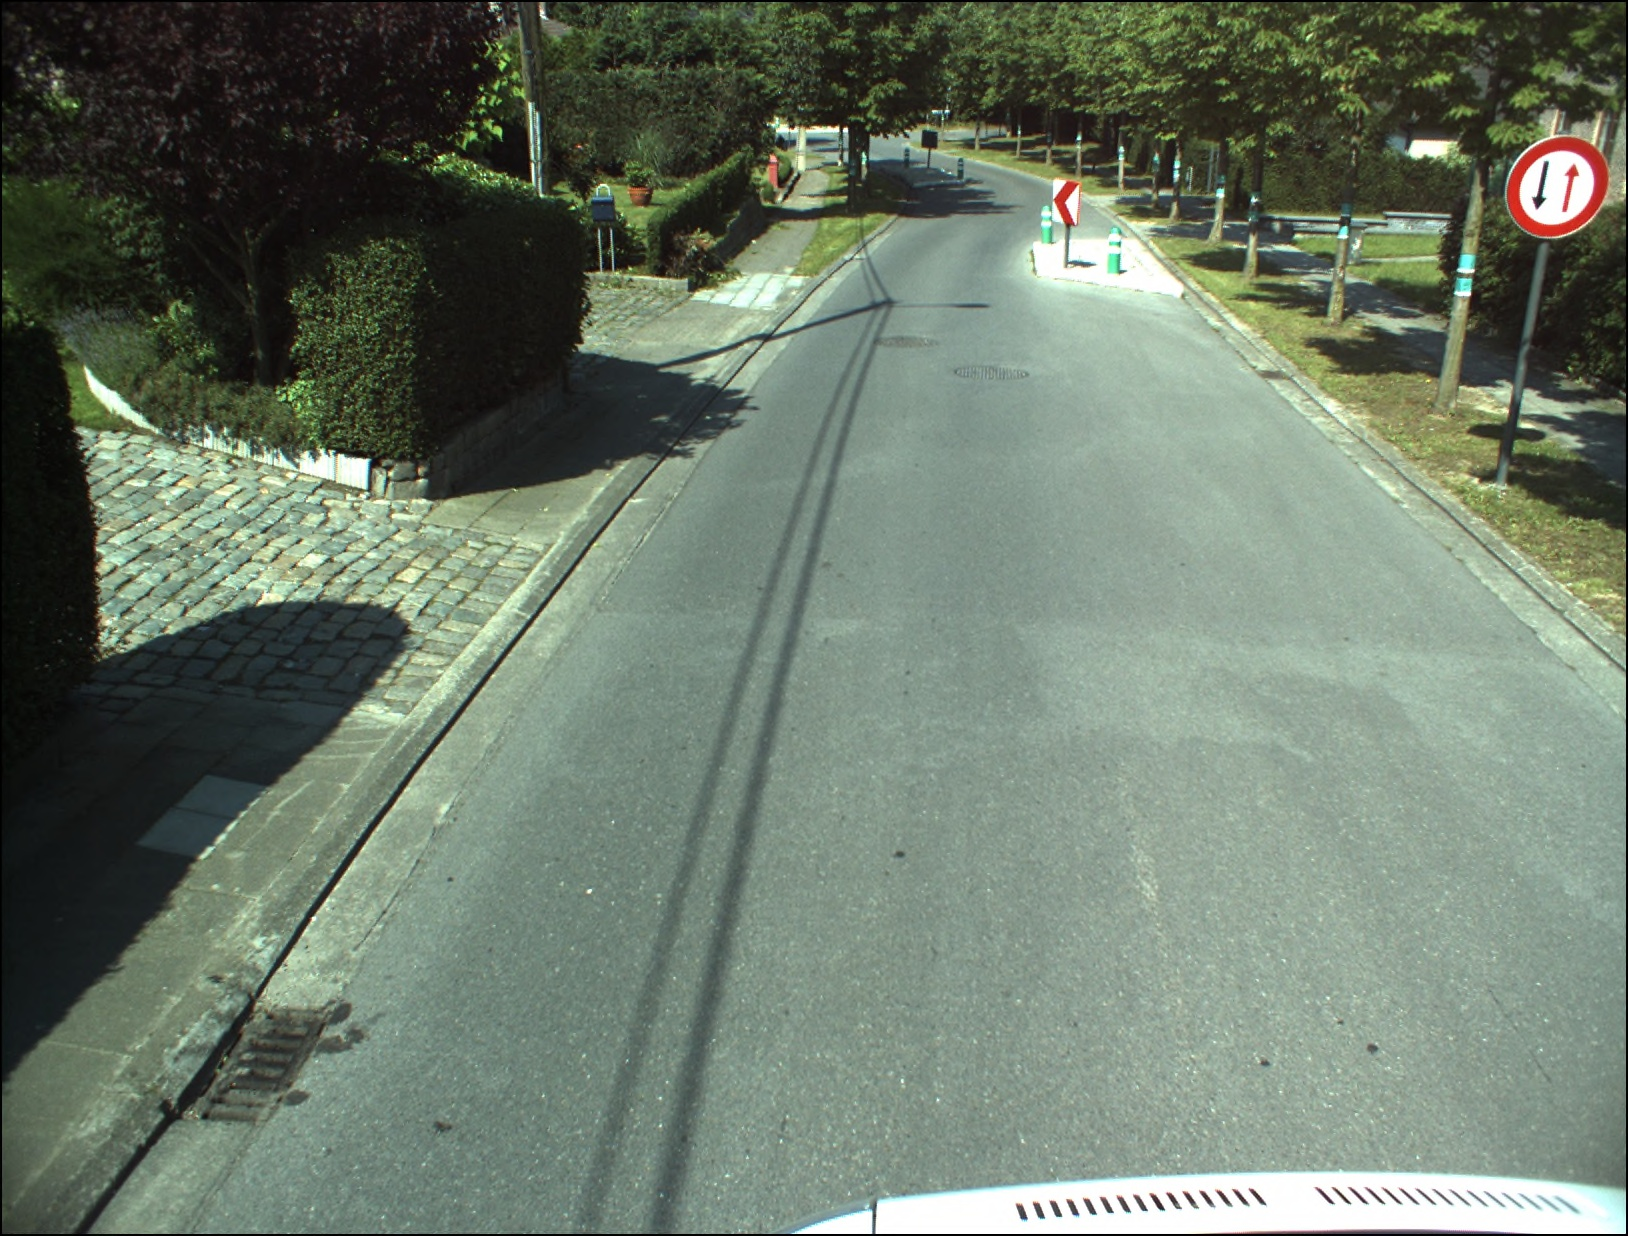roadnarrow2: (1505, 138, 1605, 238)
